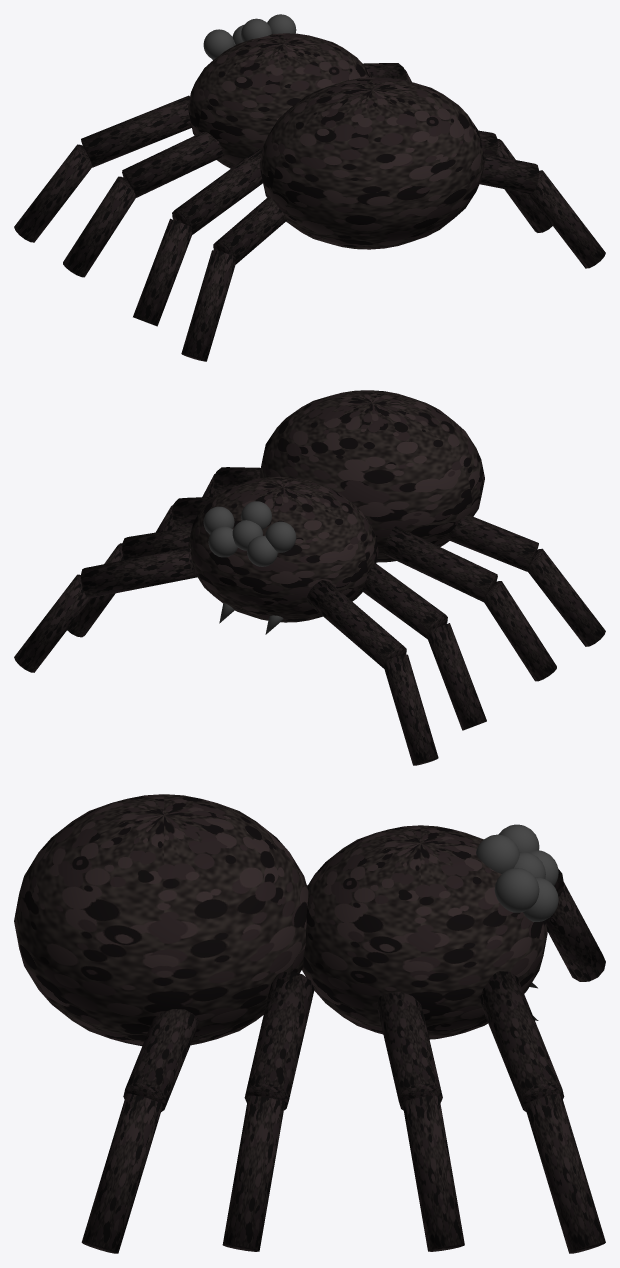
Rendered from spider-arachnid-proof.glb.
3 views of the same model, one above another, from view 1: azimuth 30°, elevation 25°; view 2: azimuth 150°, elevation 25°; view 3: azimuth 270°, elevation 25° (orthographic). The views are drawn at different scales.
Parts seen in each view (by area): view 1: RearMass, FrontMass, LegUpper, LegUpper.002, LegUpper.004, LegLower.006, LegLower.004, LegLower.002, LegLower, LegLower.007, LegUpper.006, LegUpper.007 (+4 smaller); view 2: RearMass, FrontMass, LegUpper.004, LegUpper.001, LegUpper, LegLower, LegLower.002, LegLower.004, LegLower.006, LegUpper.002, LegUpper.006, LegLower.001 (+10 smaller); view 3: RearMass, FrontMass, LegLower.007, LegLower.001, LegLower.003, LegLower.005, LegUpper.001, LegUpper.005, LegUpper.003, LegUpper.007, LegLower, Eye.001 (+3 smaller).
Part boxes in pixels (<box>): RearMass: <box>259,77,484,249</box>; FrontMass: <box>188,33,371,168</box>; LegUpper: <box>81,95,191,167</box>; LegUpper.002: <box>122,132,223,197</box>; LegUpper.004: <box>172,149,262,234</box>; LegLower.006: <box>181,250,235,361</box>; LegLower.004: <box>133,218,191,326</box>; LegLower.002: <box>63,176,135,277</box>; LegLower: <box>14,144,92,242</box>; LegLower.007: <box>528,170,605,268</box>; LegUpper.006: <box>213,196,286,264</box>; LegUpper.007: <box>480,154,538,193</box>; RearMass: <box>259,390,484,562</box>; FrontMass: <box>188,476,378,622</box>; LegUpper.004: <box>382,526,497,602</box>; LegUpper.001: <box>81,547,197,598</box>; LegUpper: <box>307,580,406,668</box>; LegLower: <box>384,654,438,765</box>; LegLower.002: <box>427,623,486,730</box>; LegLower.004: <box>484,581,556,681</box>; LegLower.006: <box>527,548,605,646</box>; LegUpper.002: <box>362,563,447,638</box>; LegUpper.006: <box>447,515,538,571</box>; LegLower.001: <box>14,574,91,672</box>; RearMass: <box>14,794,308,1045</box>; FrontMass: <box>302,825,547,1039</box>; LegLower.007: <box>81,1093,162,1253</box>; LegLower.001: <box>525,1093,605,1253</box>; LegLower.003: <box>402,1095,464,1251</box>; LegLower.005: <box>222,1095,284,1251</box>; LegUpper.001: <box>480,971,564,1111</box>; LegUpper.005: <box>244,971,314,1110</box>; LegUpper.003: <box>376,992,442,1110</box>; LegUpper.007: <box>123,1009,199,1111</box>; LegLower: <box>545,882,605,981</box>; Eye.001: <box>494,868,539,912</box>.
Bounding box in the file's own units: 1.09 × 0.5191 × 0.9226.
Materials: 3 (2 with a texture image).
